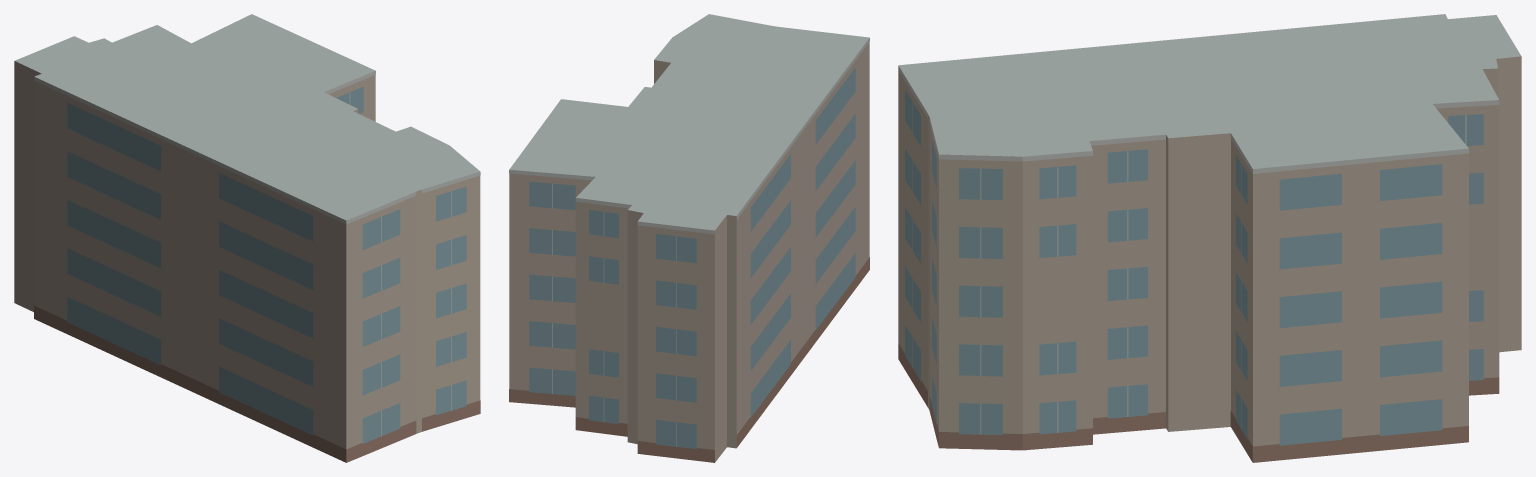
File: survey-upis-32650526.glb
3 views of the same model, side by side, from view 1: azimuth 30°, elevation 25°; view 2: azimuth 150°, elevation 25°; view 3: azimuth 270°, elevation 25° (orthographic). The views are drawn at different scales.
Parts seen in each view (by area): view 1: survey-upis-32650526.tmp; view 2: survey-upis-32650526.tmp; view 3: survey-upis-32650526.tmp.
Boxes of the visible parts, x1,y1,x2,y2 form: survey-upis-32650526.tmp: [14, 14, 480, 462]; survey-upis-32650526.tmp: [509, 14, 869, 462]; survey-upis-32650526.tmp: [898, 14, 1521, 462].
Bounding box in the file's own units: 16.78 × 14.8 × 28.48.
